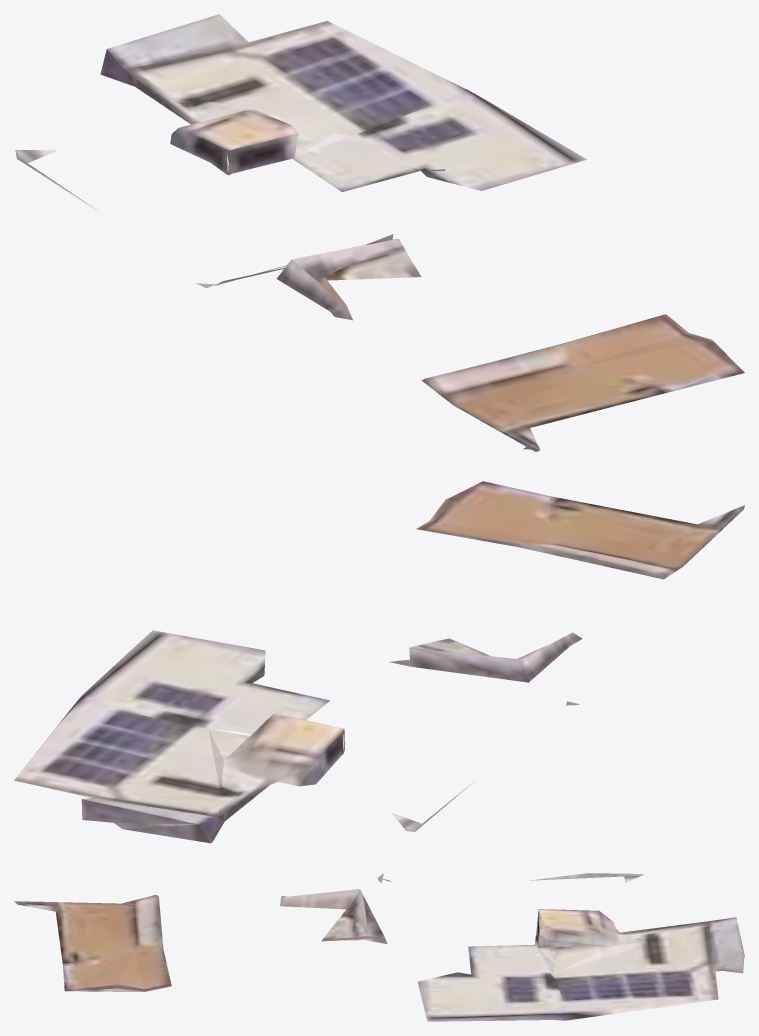
The picture shows the model from 3 angles, top to bottom: view 1: azimuth 30°, elevation 25°; view 2: azimuth 150°, elevation 25°; view 3: azimuth 270°, elevation 25°; orthographic projection. The views are drawn at different scales.
Parts seen in each view (by area): view 1: Mesh_0; view 2: Mesh_0; view 3: Mesh_0.
Boxes of the visible parts, x1,y1,x2,y2 form: Mesh_0: [15, 14, 744, 451]; Mesh_0: [14, 481, 744, 843]; Mesh_0: [14, 873, 744, 1021].
Bounding box in the file's own units: 24.72 × 1.63 × 50.94.
Materials: 1 (1 with a texture image).
